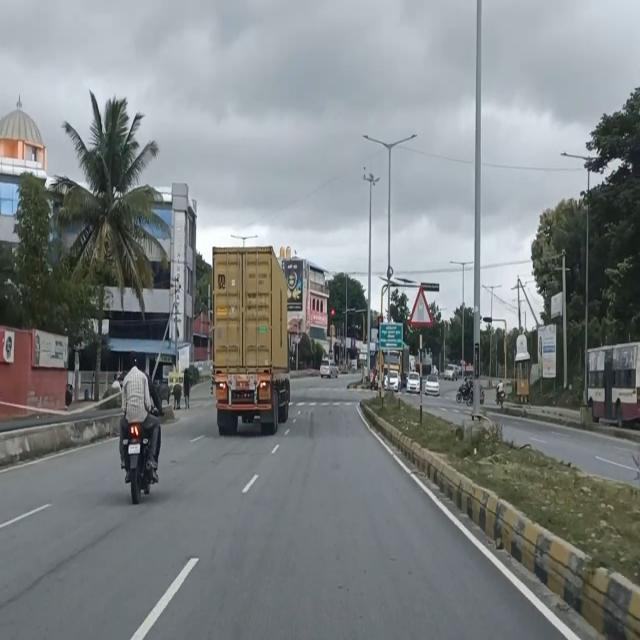bien_cam: (407, 282, 434, 327)
